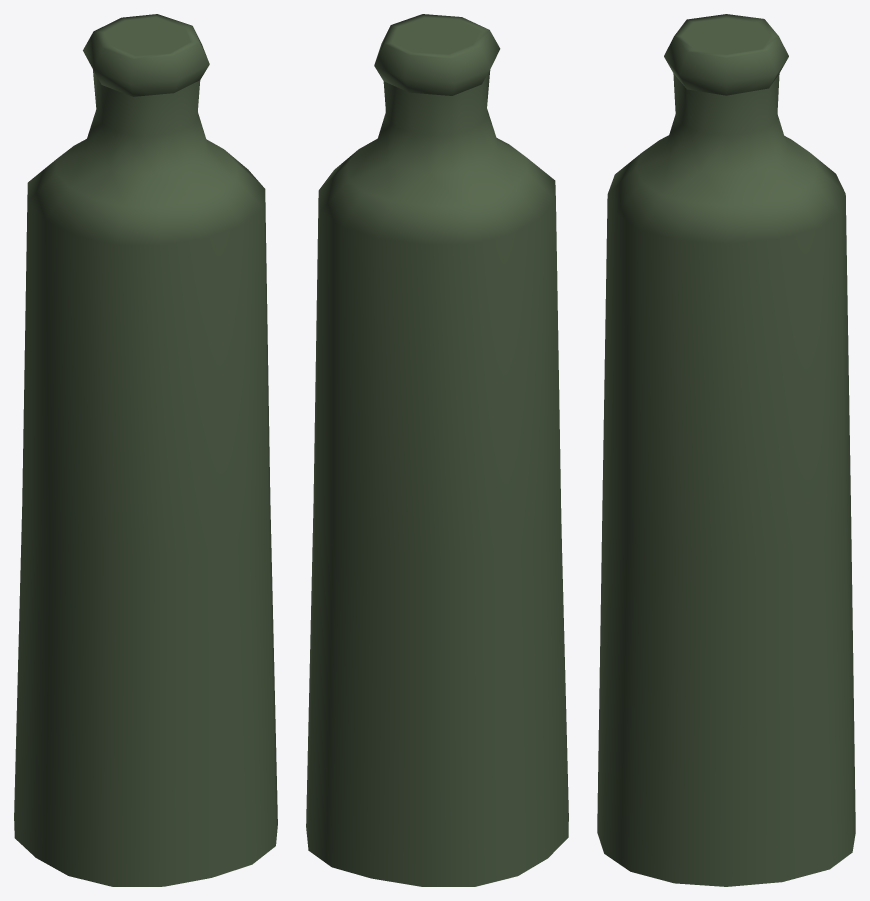
Rendered from flaske3_green.fbx.
3 renders of one model, left to right at view 1: azimuth 30°, elevation 25°; view 2: azimuth 150°, elevation 25°; view 3: azimuth 270°, elevation 25°, orthographic.
Parts seen in each view (by area): view 1: pCube14; view 2: pCube14; view 3: pCube14.
Part boxes in pixels (x1,y1,x2,y2): pCube14: (14,14,277,886); pCube14: (306,14,568,886); pCube14: (597,14,855,886).
Size of the model in its own units: 0.9438 by 3.21 by 0.9438.
